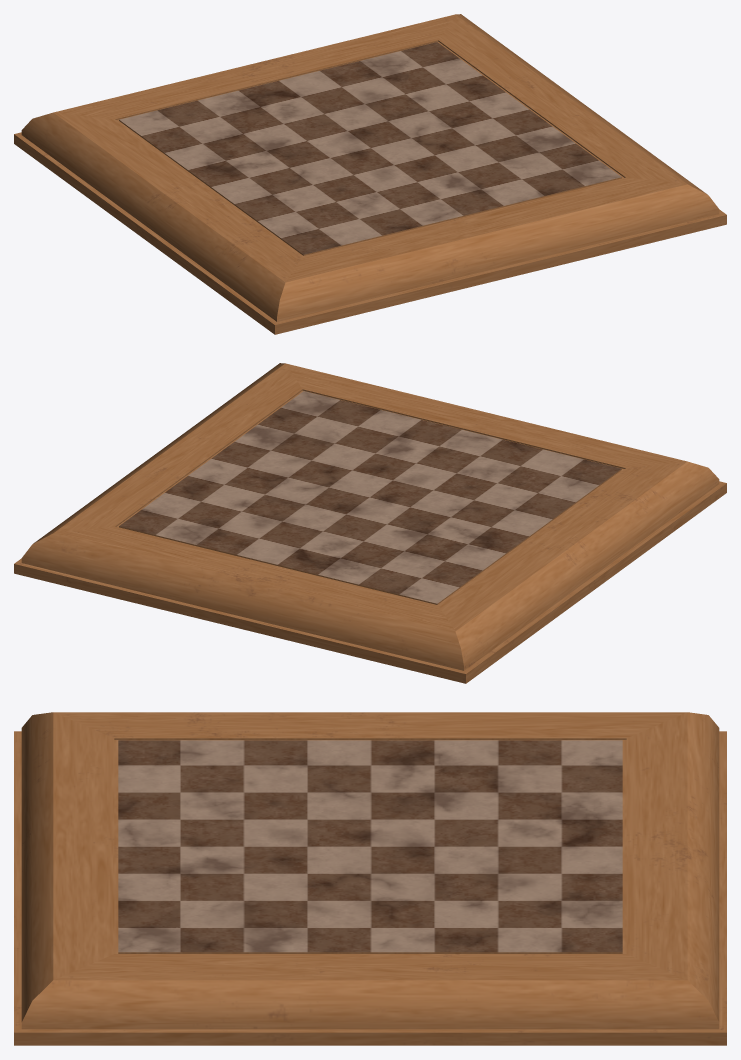
The model's file is GEO_ChessBoard.obj.
3 views of the same model, one above another, from view 1: azimuth 30°, elevation 25°; view 2: azimuth 150°, elevation 25°; view 3: azimuth 270°, elevation 25° (orthographic). The views are drawn at different scales.
Parts seen in each view (by area): view 1: GEO_ChessBoard; view 2: GEO_ChessBoard; view 3: GEO_ChessBoard.
Boxes of the visible parts, left/top/right/bottom form: GEO_ChessBoard: left=14, top=14, right=726, bottom=334; GEO_ChessBoard: left=14, top=363, right=726, bottom=683; GEO_ChessBoard: left=14, top=712, right=726, bottom=1045.
Bounding box in the file's own units: 0.6182 × 0.0476 × 0.6182.
